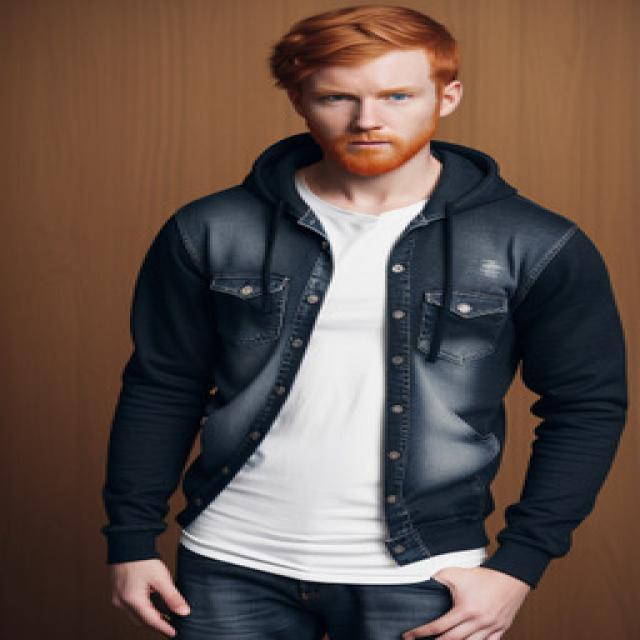Ai human 2: (85, 0, 627, 640)
